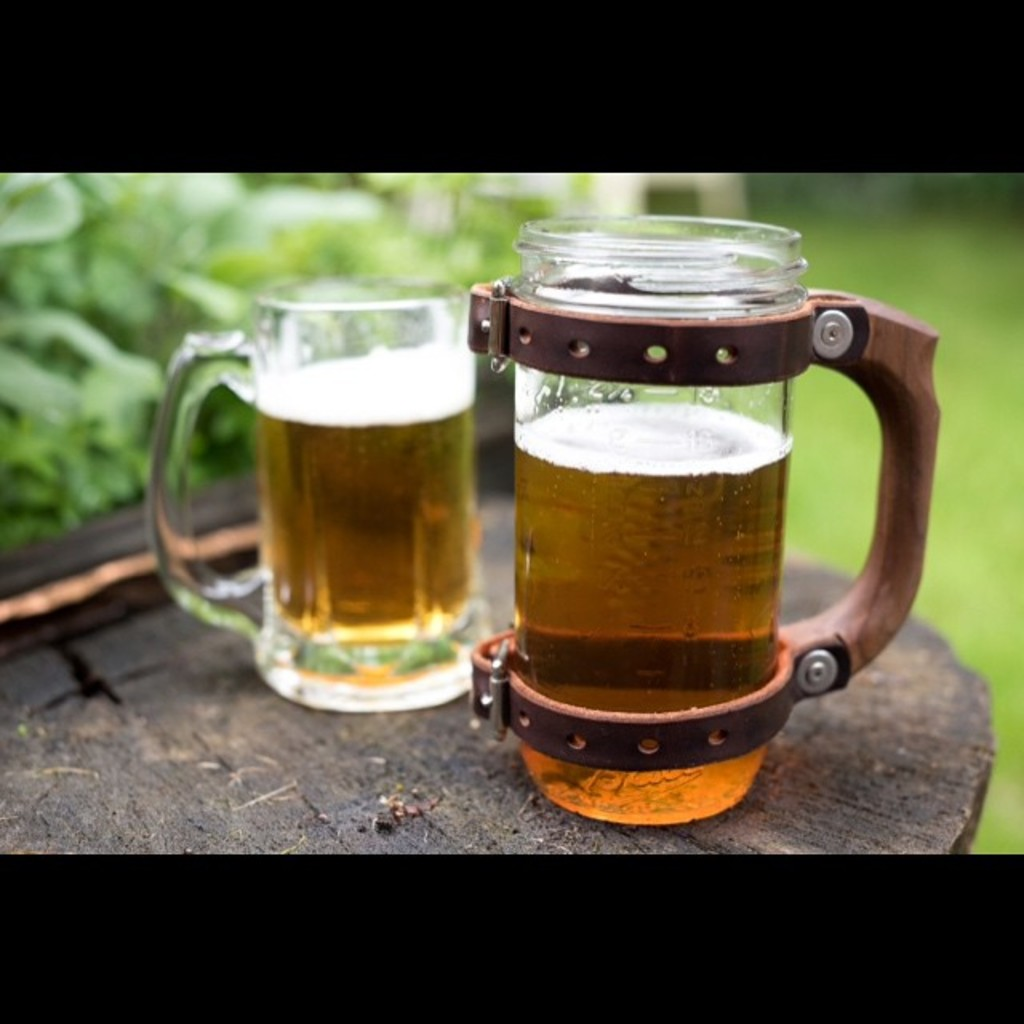Beer: (505, 391, 779, 828), (257, 348, 473, 683)
